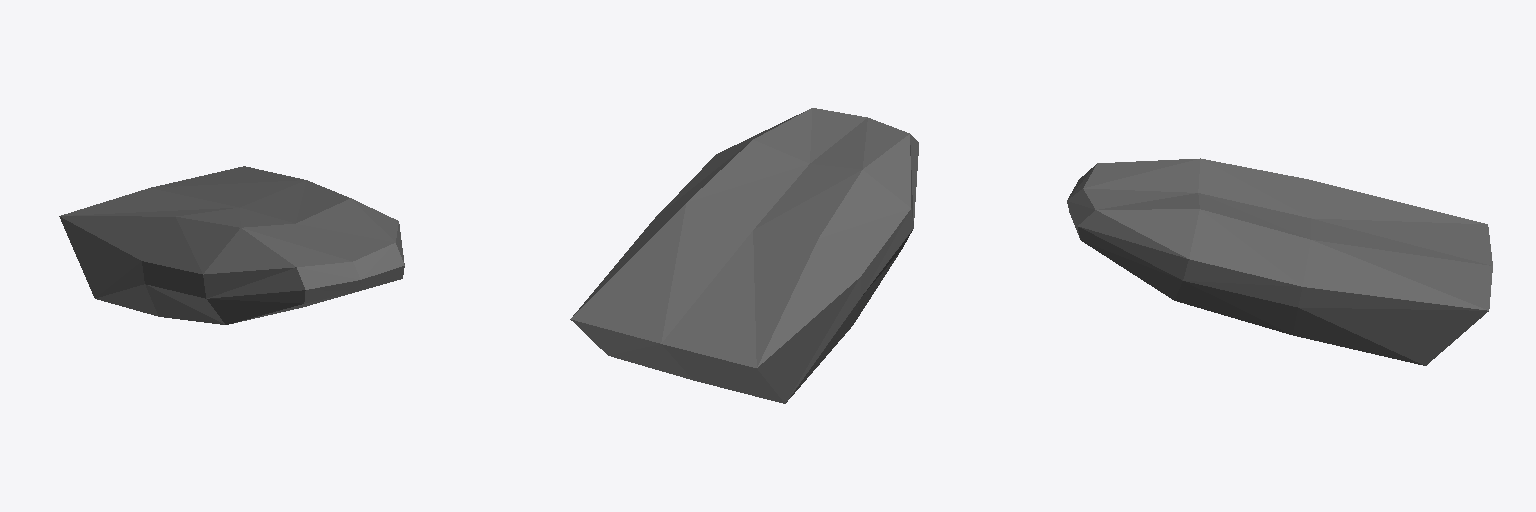
File: limba.obj
The picture shows the model from 3 angles: view 1: azimuth 30°, elevation 25°; view 2: azimuth 150°, elevation 25°; view 3: azimuth 270°, elevation 25°; orthographic projection.
Visible parts, largest first — view 1: tongue.010; view 2: tongue.010; view 3: tongue.010.
Boxes of the visible parts, <box> form: tongue.010: <box>59,166,404,324</box>; tongue.010: <box>570,108,918,403</box>; tongue.010: <box>1067,158,1492,365</box>.
Bounding box in the file's own units: 3.4 × 2.32 × 6.08.